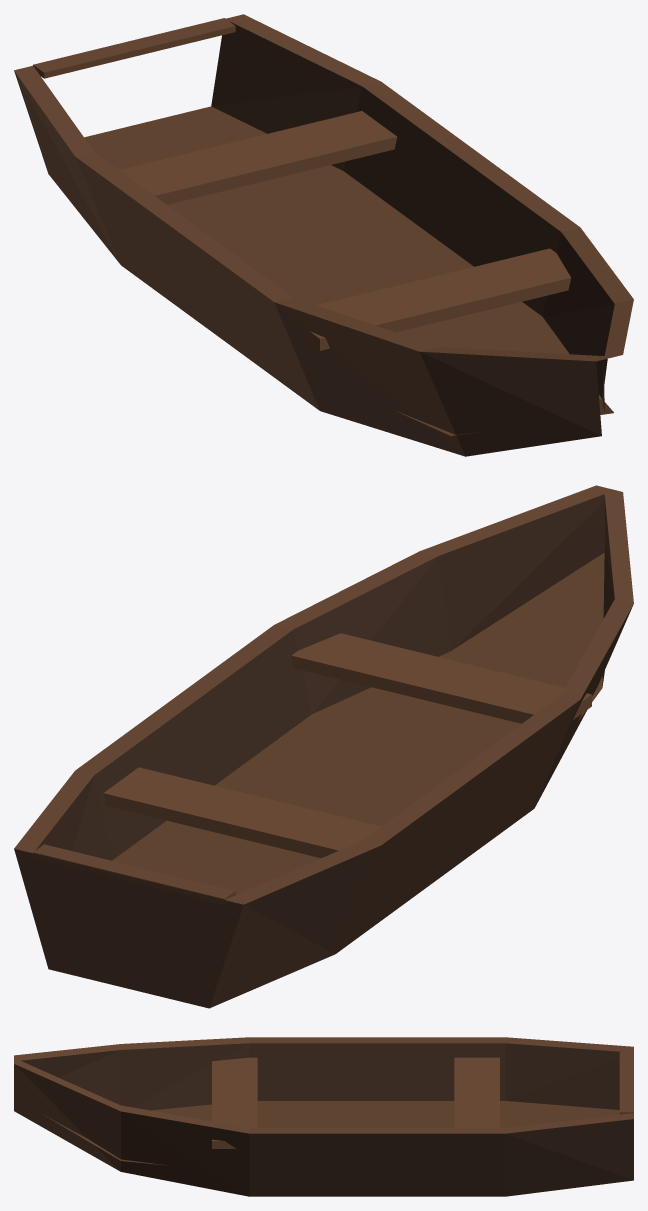
File: boat.glb
3 renders of one model, top to bottom at view 1: azimuth 30°, elevation 25°; view 2: azimuth 150°, elevation 25°; view 3: azimuth 270°, elevation 25°, orthographic. The views are drawn at different scales.
Visible parts, largest first — view 1: lit; view 2: lit; view 3: lit.
Boxes of the visible parts, x1,y1,x2,y2 form: lit: (14,14,633,456); lit: (14,485,633,1008); lit: (14,1037,633,1196).
Bounding box in the file's own units: 1.6 × 0.8 × 4.35.
